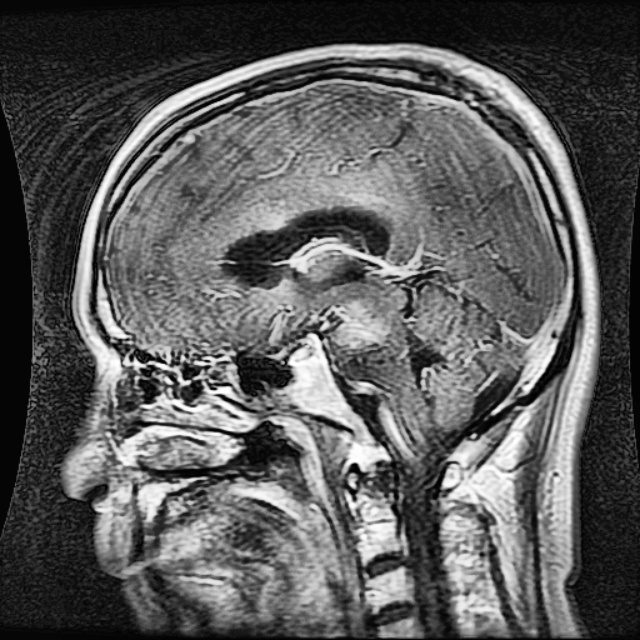Meningioma: (334, 300, 392, 352)
